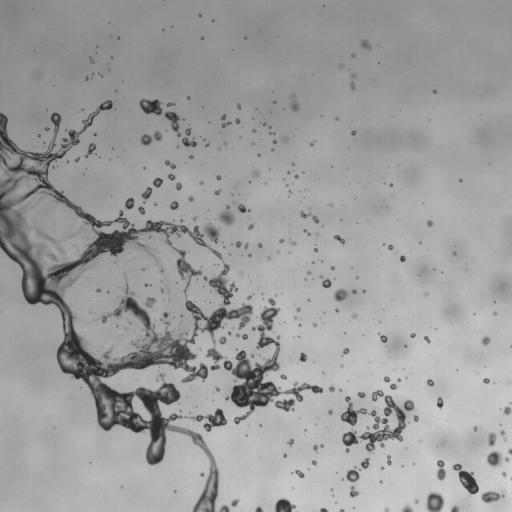droplet: (340, 390, 406, 452), (425, 491, 444, 511), (139, 99, 162, 115), (486, 451, 509, 467), (217, 205, 235, 225), (274, 498, 295, 511), (182, 128, 196, 146), (436, 460, 446, 480), (333, 288, 347, 301), (403, 399, 414, 411), (488, 432, 496, 446), (221, 115, 230, 127), (125, 197, 134, 209), (237, 204, 249, 213), (349, 485, 358, 497), (361, 40, 371, 49), (153, 178, 162, 187), (481, 336, 490, 345), (293, 470, 304, 477), (169, 201, 178, 209), (322, 279, 331, 287), (502, 406, 511, 414), (437, 397, 443, 408), (379, 334, 387, 342), (341, 348, 349, 356), (299, 353, 307, 361), (230, 499, 239, 506), (252, 170, 260, 177), (138, 206, 145, 214), (219, 336, 226, 344), (450, 505, 459, 511), (168, 174, 175, 180), (214, 189, 221, 195), (234, 241, 241, 247), (424, 336, 430, 343), (427, 379, 433, 386), (390, 383, 397, 389), (176, 182, 181, 190), (357, 392, 365, 397), (255, 506, 263, 511), (427, 220, 433, 226), (287, 439, 293, 445), (350, 82, 355, 89), (289, 240, 296, 245), (329, 385, 334, 392), (400, 255, 405, 261), (352, 313, 357, 319), (280, 374, 286, 379), (384, 376, 389, 382), (483, 378, 489, 383), (413, 415, 418, 421), (313, 445, 318, 451), (167, 102, 174, 106), (235, 118, 240, 123), (351, 130, 356, 135), (282, 136, 287, 141), (216, 175, 221, 180), (188, 196, 193, 201), (248, 224, 253, 229), (388, 244, 393, 249), (410, 333, 415, 338), (328, 409, 332, 415), (90, 58, 94, 63), (244, 243, 248, 248), (144, 283, 149, 287), (96, 288, 101, 292), (247, 295, 252, 299), (215, 386, 219, 391), (473, 426, 477, 431), (312, 460, 316, 465), (502, 471, 506, 476), (384, 507, 389, 511), (351, 74, 355, 78), (75, 157, 79, 161), (296, 307, 300, 311), (127, 320, 131, 324), (313, 323, 317, 327), (397, 378, 401, 382), (414, 499, 418, 503), (237, 104, 240, 109), (328, 203, 333, 206), (279, 239, 284, 242), (189, 155, 193, 158), (389, 183, 392, 187), (258, 243, 261, 247), (330, 266, 334, 269), (283, 453, 286, 457), (339, 509, 344, 511), (351, 54, 354, 57), (433, 90, 436, 93), (45, 127, 48, 130), (252, 129, 255, 132), (206, 143, 209, 146), (295, 175, 298, 178), (154, 203, 157, 206), (316, 232, 319, 235), (314, 248, 317, 251), (307, 271, 310, 274), (425, 292, 428, 295), (335, 309, 338, 312), (124, 327, 127, 330), (228, 331, 231, 334), (380, 467, 383, 470), (198, 14, 201, 16), (85, 77, 88, 79), (187, 96, 189, 99), (37, 134, 40, 136), (273, 140, 275, 143), (271, 148, 273, 151), (287, 171, 289, 174), (459, 179, 462, 181), (289, 190, 291, 193), (453, 252, 456, 254), (248, 254, 251, 256), (320, 275, 322, 278), (353, 290, 355, 293), (362, 290, 365, 292), (294, 316, 296, 319), (321, 444, 323, 447), (200, 473, 203, 475), (201, 37, 203, 39), (340, 65, 342, 67), (263, 123, 265, 125), (94, 133, 96, 135), (271, 132, 273, 134), (292, 163, 294, 165), (52, 166, 54, 168), (143, 167, 145, 169), (200, 182, 202, 184), (30, 204, 32, 206), (193, 217, 195, 219), (277, 251, 279, 253), (267, 257, 269, 259), (146, 267, 148, 269), (153, 309, 155, 311), (90, 311, 92, 313), (494, 312, 496, 314), (251, 354, 253, 356)
ligament: (0, 100, 322, 511), (186, 408, 227, 431), (35, 224, 63, 253), (453, 463, 478, 495), (346, 458, 369, 483), (165, 111, 181, 136), (140, 131, 162, 145), (481, 491, 504, 503), (300, 211, 319, 223), (141, 187, 152, 203), (290, 94, 299, 111), (85, 143, 95, 157), (334, 235, 345, 244), (400, 504, 413, 511), (165, 160, 175, 168), (236, 333, 247, 339), (500, 430, 506, 440), (387, 455, 391, 465), (309, 140, 315, 146), (304, 229, 310, 235), (319, 507, 328, 511), (508, 448, 511, 455)
